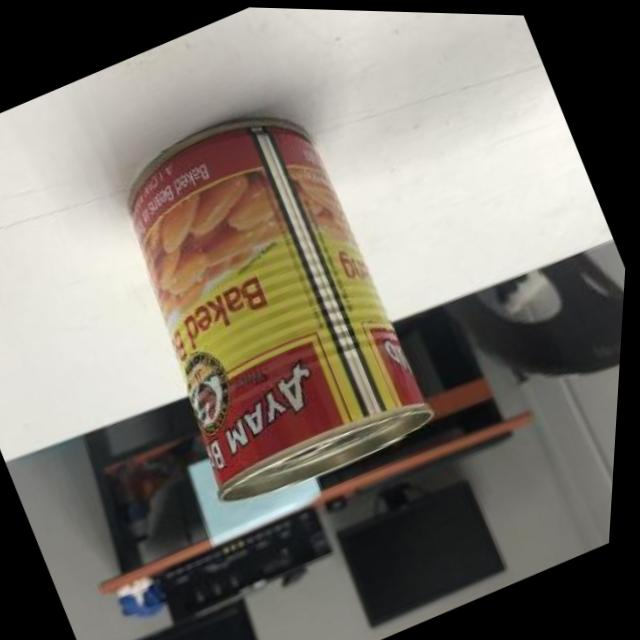metal: (132, 118, 429, 499)
